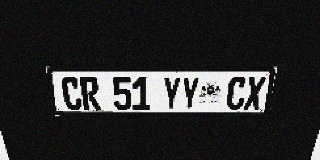1: (131, 77, 150, 110)
5: (112, 77, 132, 110)
C: (60, 77, 83, 110), (226, 77, 247, 110)
R: (79, 77, 101, 110)
X: (243, 77, 266, 109)
Y: (180, 77, 200, 110), (163, 77, 181, 110)
